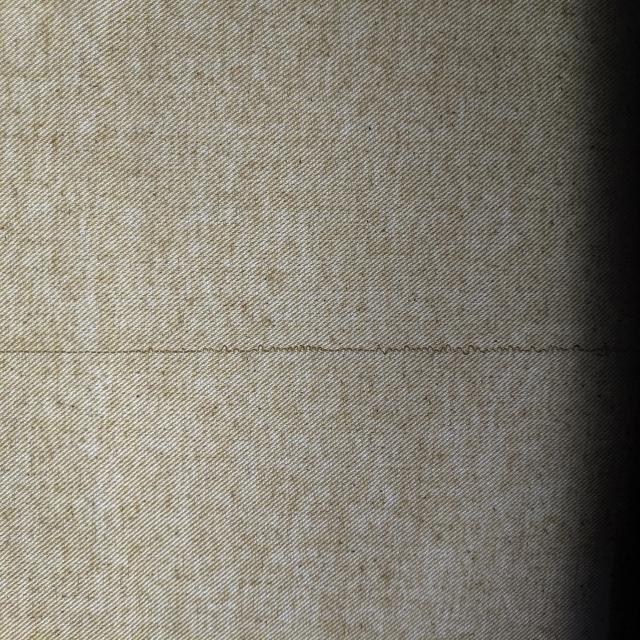Line: (0, 344, 640, 356)
